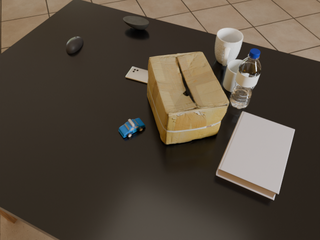book: (216, 111, 295, 200)
bottle: (229, 49, 261, 109)
box: (147, 52, 229, 144)
cup: (215, 28, 243, 66), (223, 60, 243, 92)
mouse: (123, 16, 149, 30), (66, 37, 83, 53)
phone: (126, 67, 148, 83)
toy_car: (119, 118, 145, 137)
